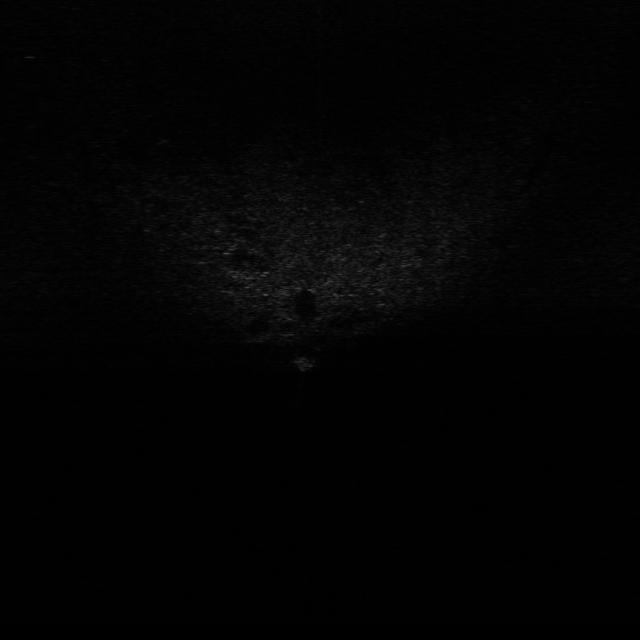cube: (296, 351, 323, 374)
